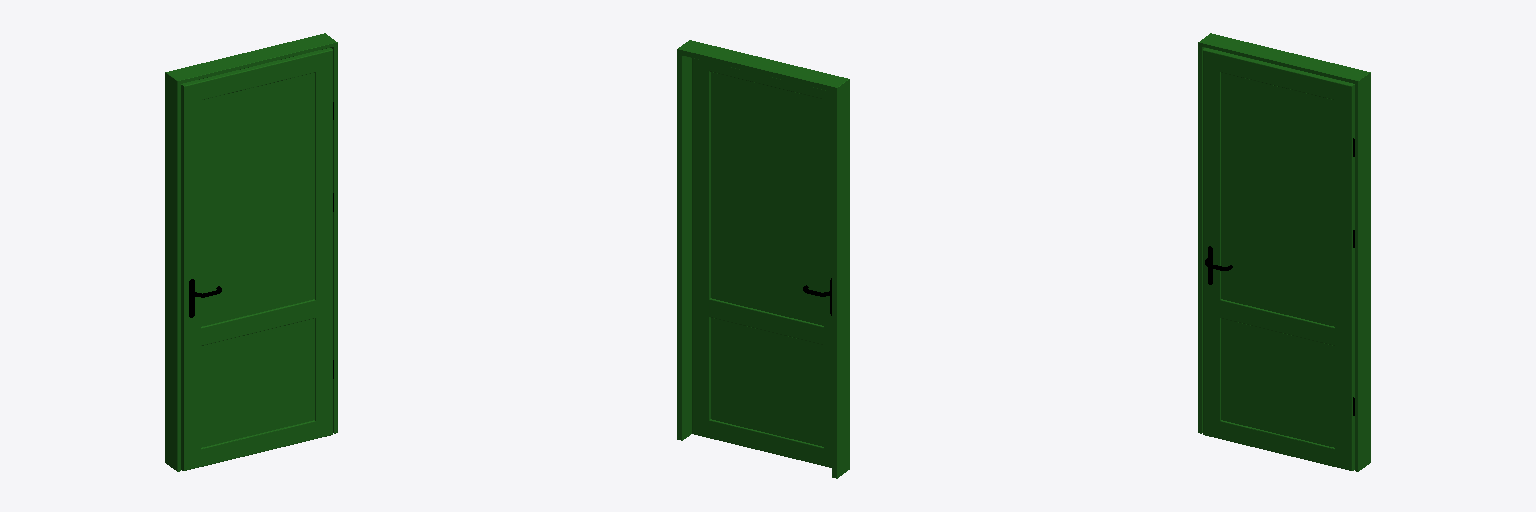
Rendered from door.obj.
The picture shows the model from 3 angles: view 1: azimuth 30°, elevation 25°; view 2: azimuth 150°, elevation 25°; view 3: azimuth 330°, elevation 25°; orthographic projection.
Size of the model in its own units: 0.9 by 2.1 by 0.2086.